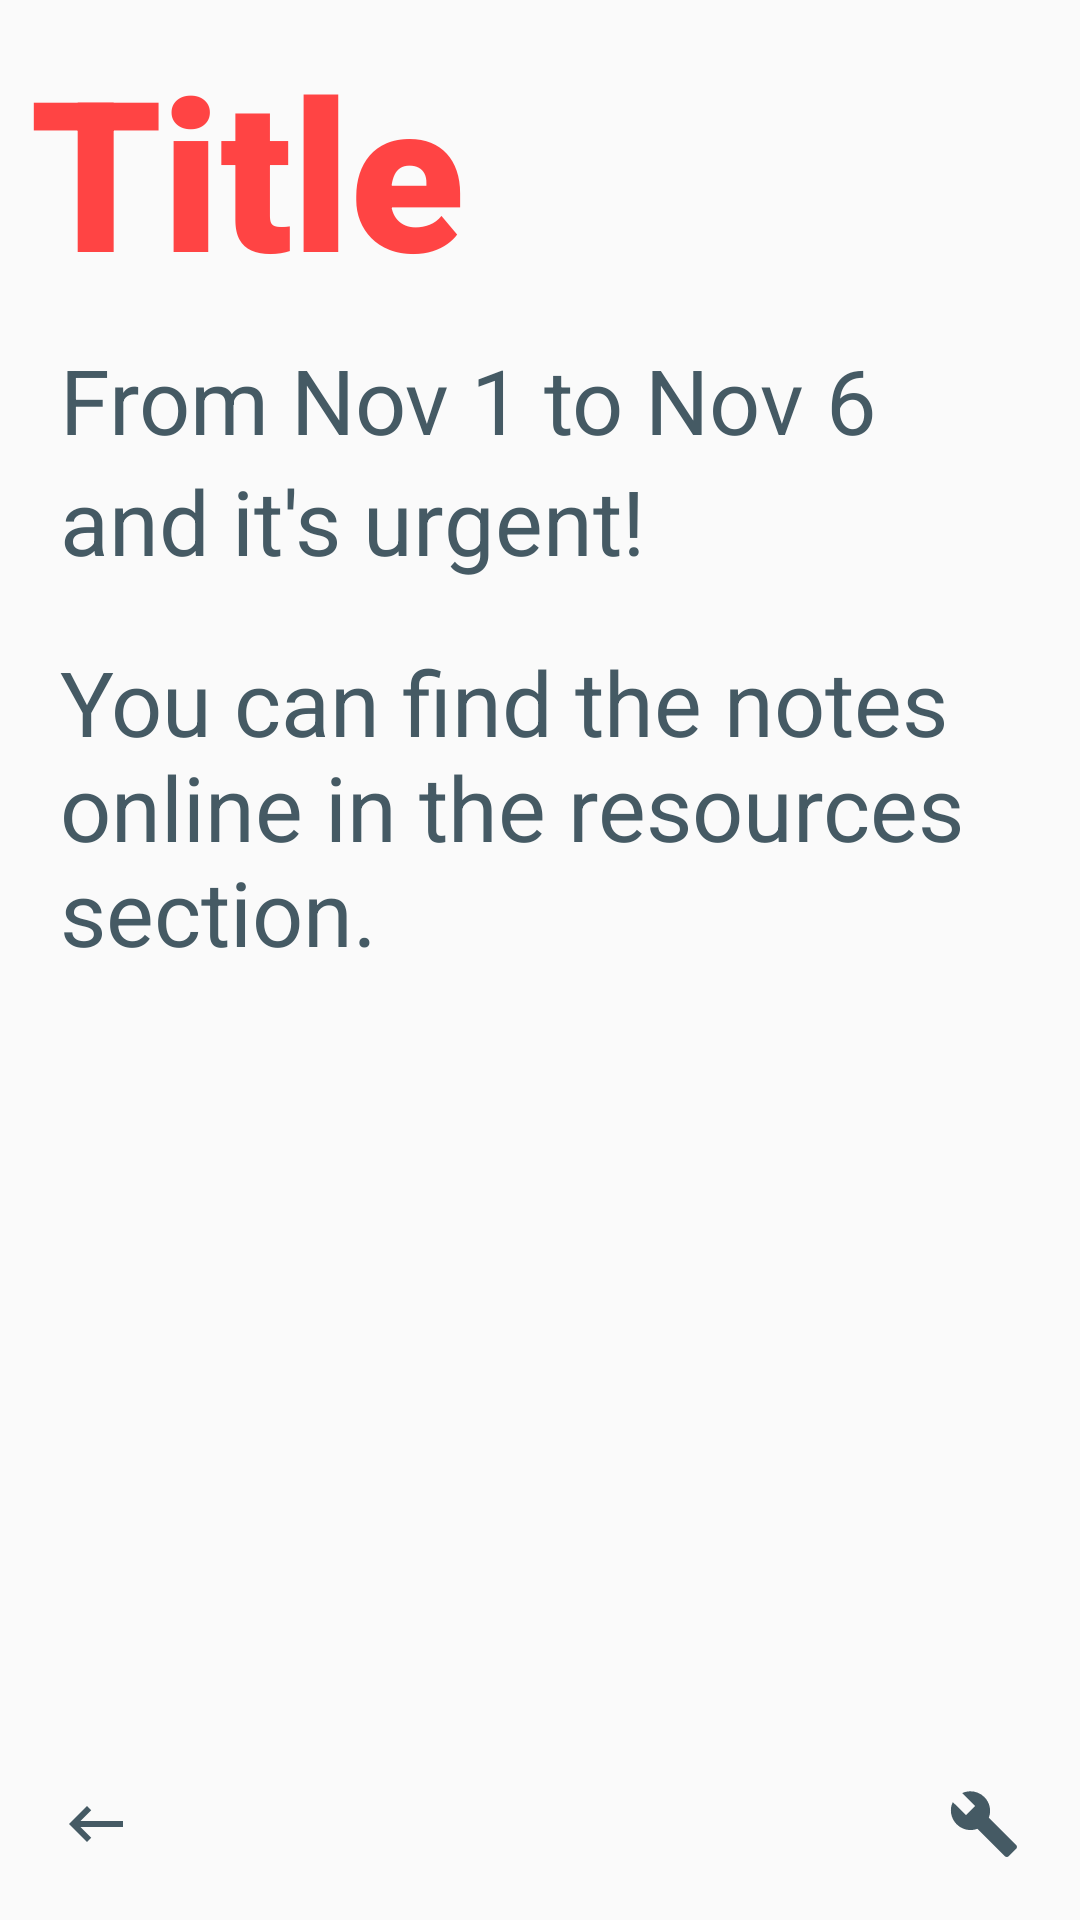

Icon bounding boxes for this 1080*1920 phone screenshot, format (left=x1, top=y1, right=x2, bottom=y2):
Edit this task: (left=951, top=1791, right=1017, bottom=1857)
Return to Homepage: (left=69, top=1806, right=123, bottom=1842)
